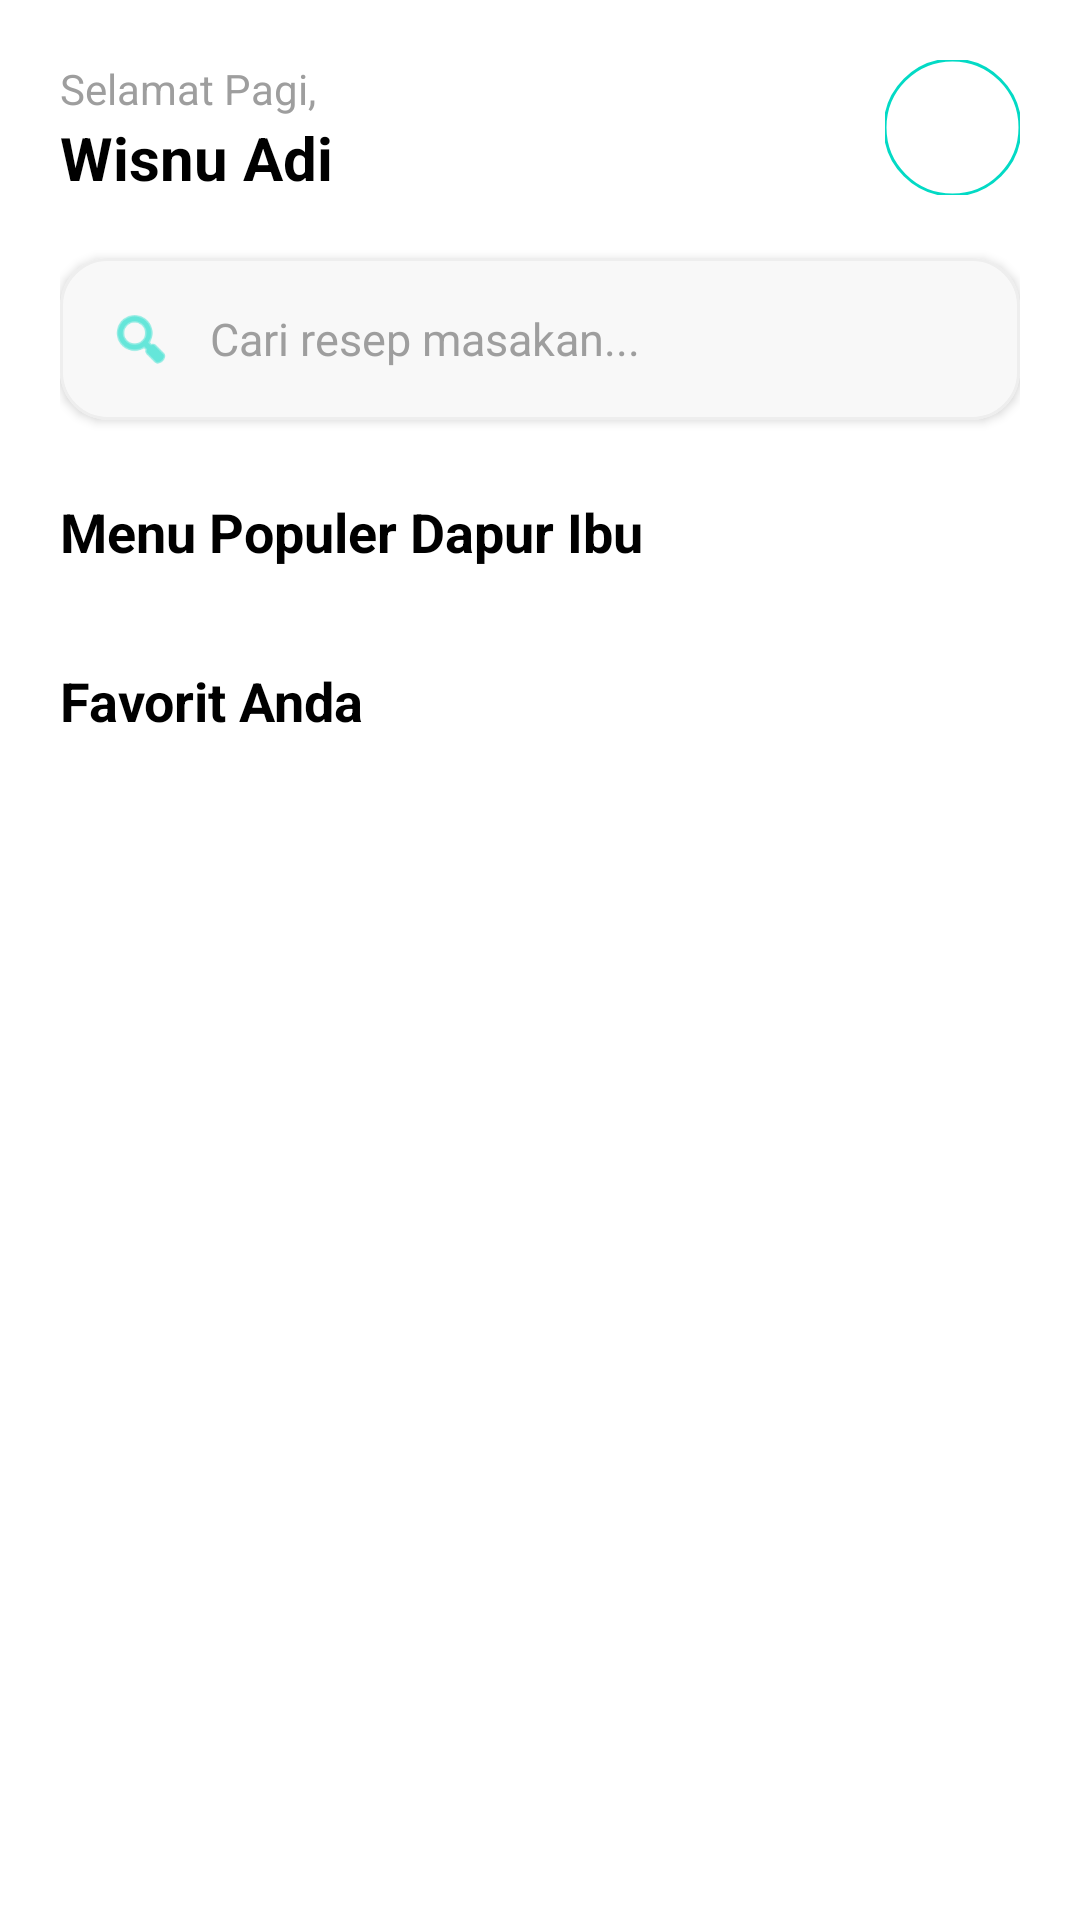

Icon bounding boxes for this 1080 x 1920 phone screenshot, format (x1, y1, x2, y2):
search: (117, 315, 165, 364)
